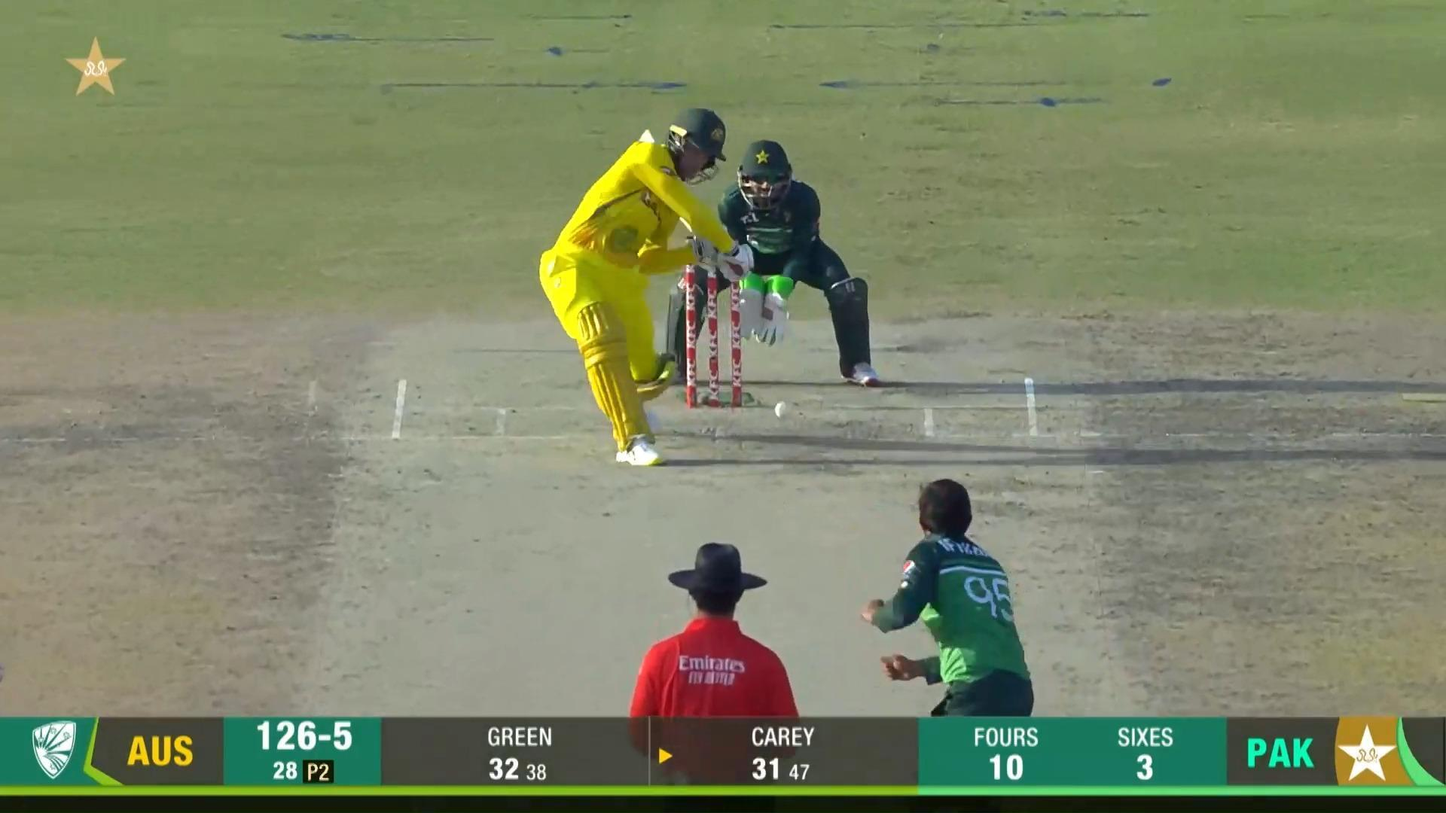BM 1: (537, 104, 757, 475)
BO: (861, 475, 1037, 717)
